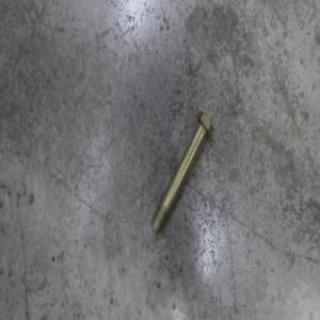Bolttrack_idkeyframe: (150, 109, 212, 235)
